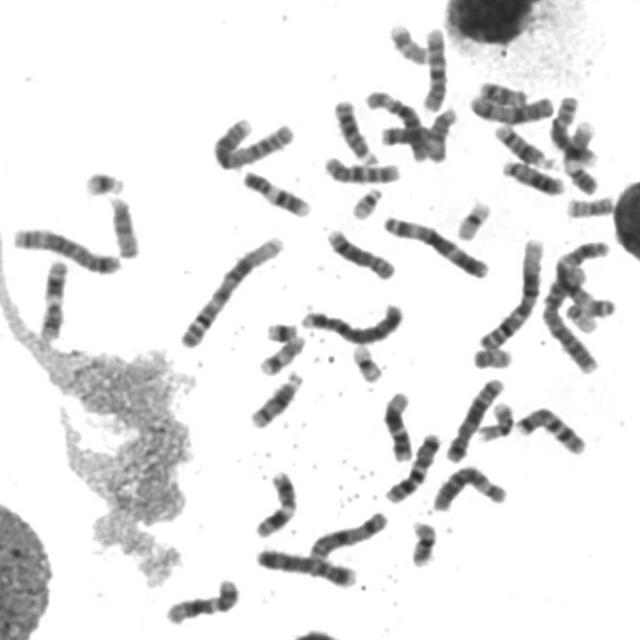A1: (174, 230, 288, 350), (473, 232, 547, 352)
A2: (538, 261, 602, 375), (207, 111, 297, 171)
A3: (378, 210, 492, 280), (550, 233, 618, 319)
B4: (296, 297, 407, 346), (250, 543, 359, 590)
B5: (7, 221, 124, 276), (441, 371, 507, 465)
C10: (318, 151, 402, 186), (418, 22, 450, 112)
C11: (249, 465, 299, 540), (32, 253, 69, 345)
C12: (160, 574, 242, 628), (378, 387, 415, 463)
C6: (360, 86, 430, 162), (428, 460, 510, 513)
C7: (380, 428, 444, 506), (511, 400, 589, 457)
C8: (322, 223, 398, 281), (546, 90, 598, 167)
C9: (236, 165, 313, 219), (559, 115, 602, 196)
D13: (329, 94, 379, 166), (497, 154, 568, 197)
D14: (245, 365, 306, 430), (489, 119, 559, 171)
D15: (103, 190, 143, 260), (422, 102, 459, 164)
E16: (473, 396, 516, 443), (404, 516, 440, 569)
E17: (255, 330, 308, 378), (384, 18, 432, 66)
E18: (370, 120, 440, 148), (474, 76, 529, 107)
F19: (452, 196, 493, 242), (346, 340, 386, 384)
F20: (562, 191, 618, 219), (468, 343, 514, 370)
G21: (79, 165, 128, 198), (261, 316, 300, 343)
G22: (346, 182, 385, 221), (561, 298, 601, 335)
X: (303, 506, 391, 563), (464, 90, 556, 125)
